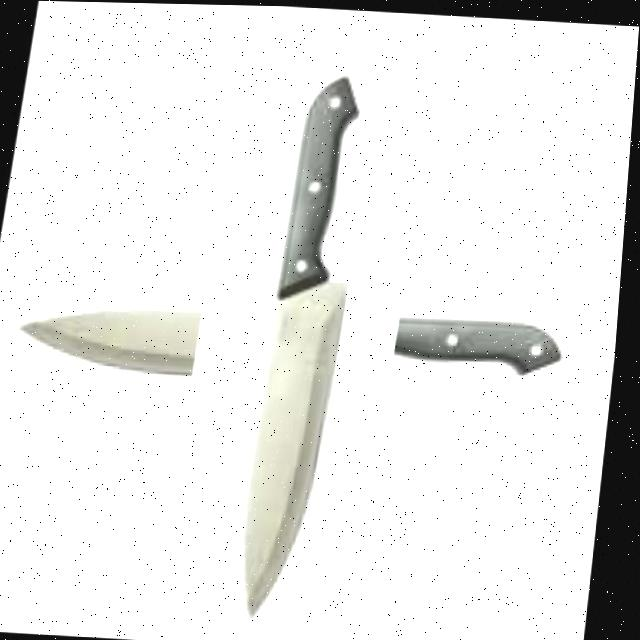knife: (238, 70, 374, 624), (20, 291, 570, 395)
